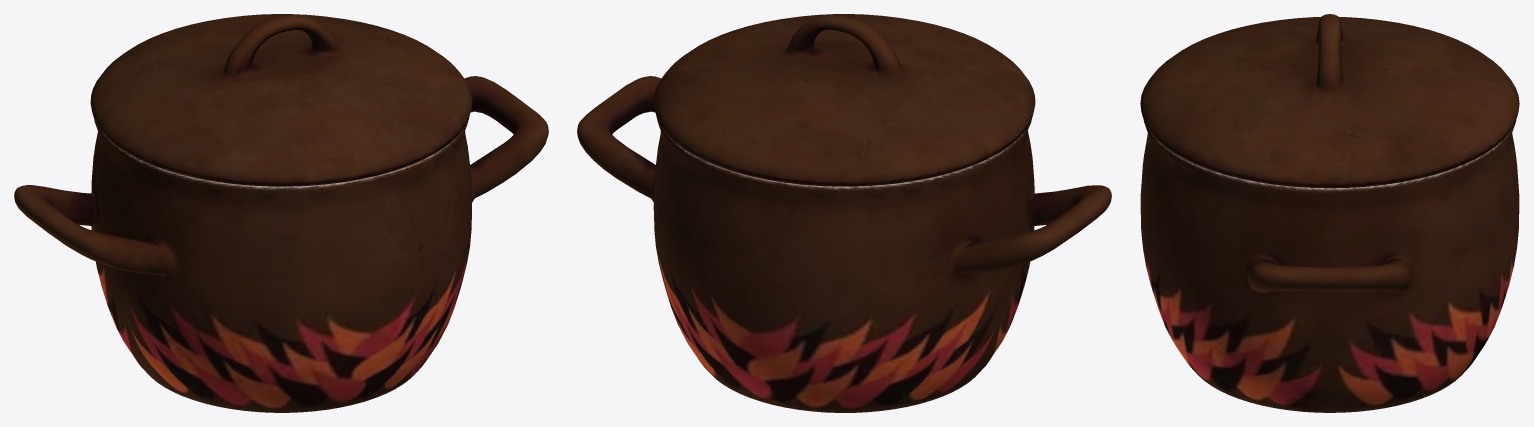
File: pot_enamel_01.85a15e23.glb
The picture shows the model from 3 angles, left to right: view 1: azimuth 30°, elevation 25°; view 2: azimuth 150°, elevation 25°; view 3: azimuth 270°, elevation 25°; orthographic projection.
Parts seen in each view (by area): view 1: pot_enamel_01_base, pot_enamel_01_lid; view 2: pot_enamel_01_base, pot_enamel_01_lid; view 3: pot_enamel_01_base, pot_enamel_01_lid.
Part boxes in pixels (x1=…): pot_enamel_01_base: x1=14, y1=76, x2=548, y2=412; pot_enamel_01_lid: x1=90, y1=14, x2=472, y2=186; pot_enamel_01_base: x1=577, y1=76, x2=1111, y2=412; pot_enamel_01_lid: x1=653, y1=14, x2=1035, y2=186; pot_enamel_01_base: x1=1140, y1=120, x2=1519, y2=412; pot_enamel_01_lid: x1=1140, y1=14, x2=1519, y2=188.
Bounding box in the file's own units: 0.95 × 0.6443 × 0.6524.
1 material, 1 textured.
